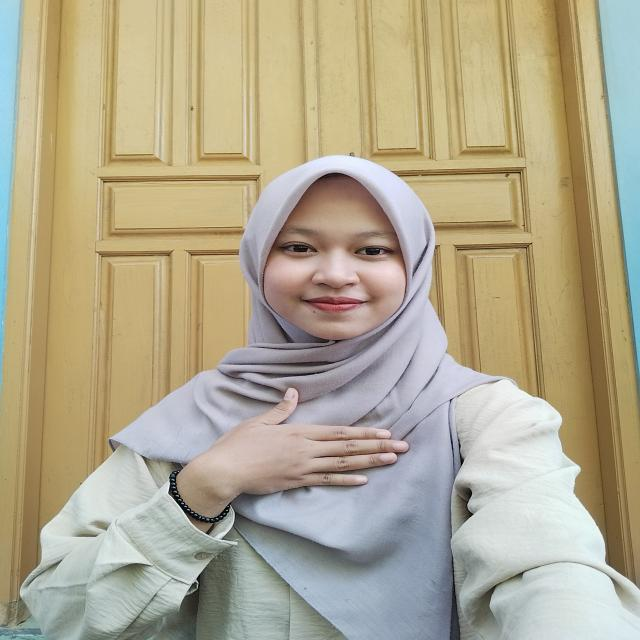tolong: (159, 388, 415, 519)
